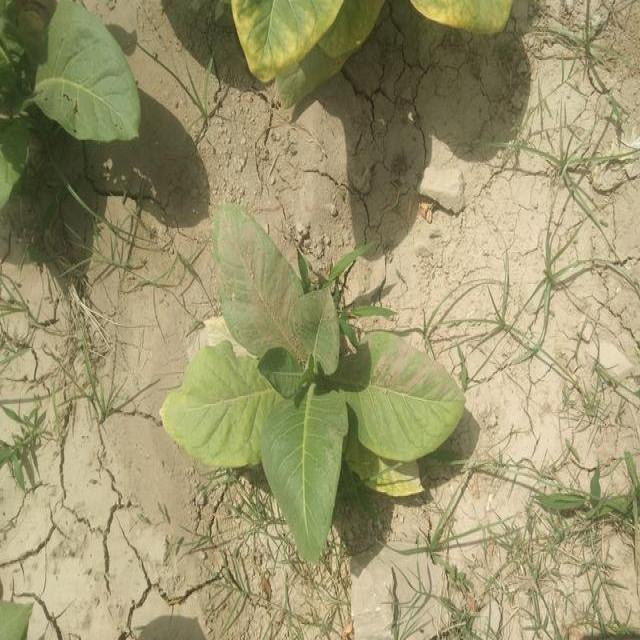crop: (169, 212, 448, 569), (238, 6, 515, 99), (0, 3, 141, 183)
